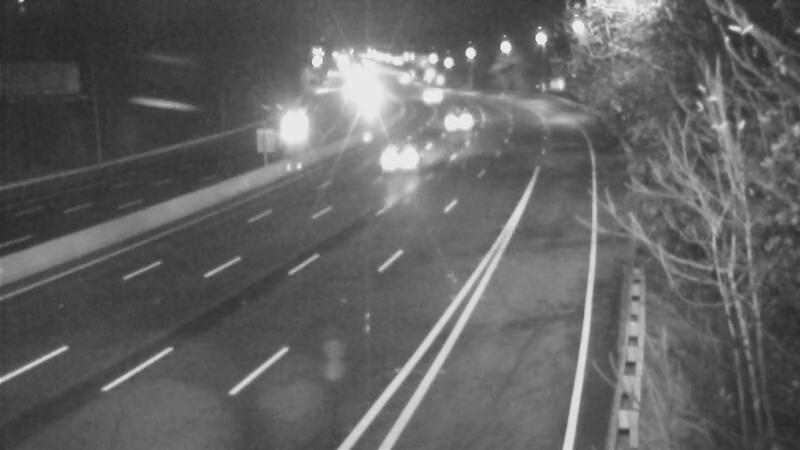vehicle: (367, 115, 447, 195), (406, 71, 456, 121), (427, 95, 477, 145), (266, 107, 316, 157)
